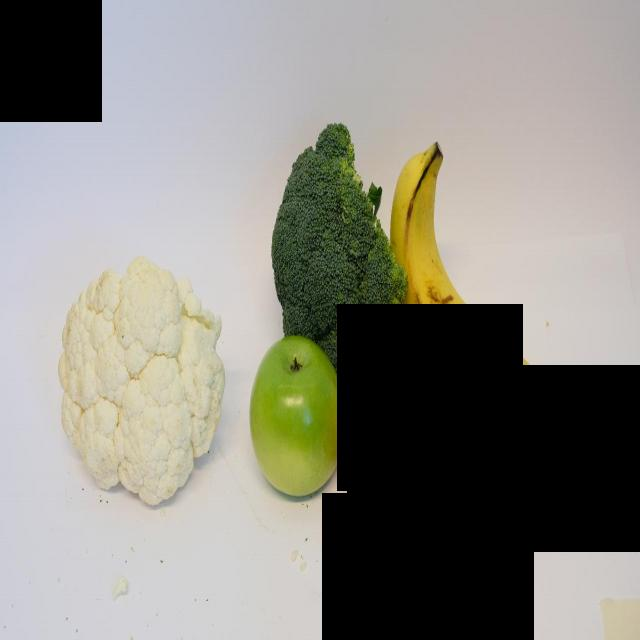apple: (424, 338, 533, 521), (248, 324, 348, 505)
banana: (389, 131, 545, 420)
broccoli: (269, 104, 410, 402)
cauliflower: (58, 249, 231, 514)
tomato: (342, 374, 432, 522)
